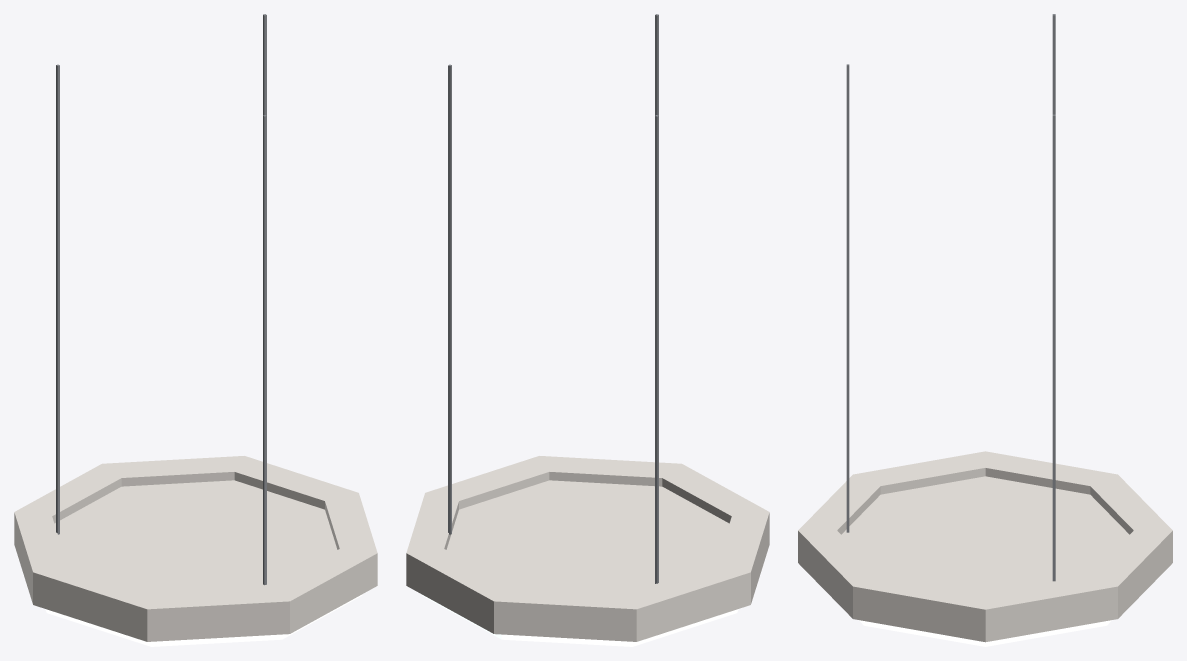
The model's file is light_pod.glb.
3 views of the same model, side by side, from view 1: azimuth 30°, elevation 25°; view 2: azimuth 150°, elevation 25°; view 3: azimuth 270°, elevation 25° (orthographic).
Parts seen in each view (by area): view 1: frutiger_aero_light_pod; view 2: frutiger_aero_light_pod; view 3: frutiger_aero_light_pod.
Boxes of the visible parts, x1,y1,x2,y2 form: frutiger_aero_light_pod: (14,14,377,646); frutiger_aero_light_pod: (406,14,769,646); frutiger_aero_light_pod: (798,14,1172,646).
Bounding box in the file's own units: 2.4 × 3.6 × 2.4.
3 materials, 3 textured.
